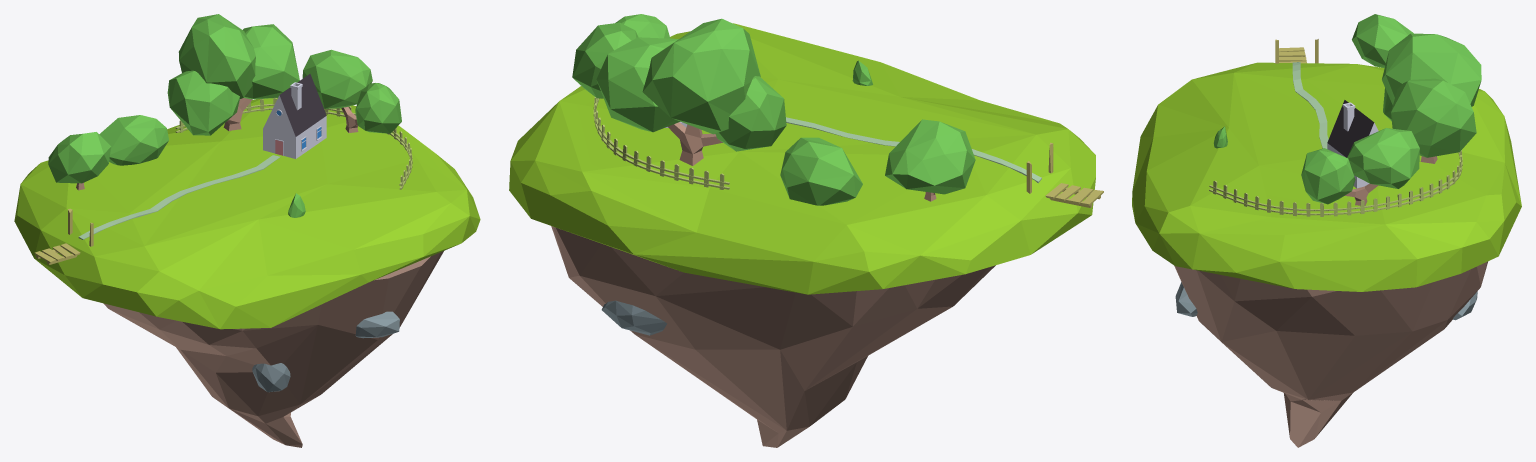
The model's file is floating_island.fbx.
The picture shows the model from 3 angles, left to right: view 1: azimuth 30°, elevation 25°; view 2: azimuth 150°, elevation 25°; view 3: azimuth 270°, elevation 25°; orthographic projection. The views are drawn at different scales.
Visible parts, largest first — view 1: island, tree.001, tree.000, house, tree.003, tree.002, road, rock.000, fence, rock.001, bridge; view 2: island, tree.001, tree.002, tree.003, tree.000, fence, rock.002, bridge, road; view 3: island, tree.001, tree.000, fence, tree.002, house, road, bridge, rock.000.
Boxes of the visible parts, box(x1,y1,x2,y2) form: island: box(14, 98, 480, 447); tree.001: box(167, 14, 299, 135); tree.000: box(302, 49, 401, 133); house: box(263, 74, 326, 158); tree.003: box(99, 115, 168, 165); tree.002: box(48, 132, 110, 190); road: box(78, 155, 280, 239); rock.000: box(355, 311, 399, 338); fence: box(175, 98, 412, 189); rock.001: box(252, 363, 290, 392); bridge: box(34, 208, 93, 264); island: box(509, 23, 1095, 447); tree.001: box(596, 18, 786, 165); tree.002: box(885, 119, 975, 201); tree.003: box(780, 137, 862, 205); tree.000: box(572, 14, 670, 98); fence: box(593, 97, 729, 189); rock.002: box(601, 300, 666, 335); bridge: box(1026, 142, 1103, 207); road: box(786, 117, 1041, 183); island: box(1132, 62, 1521, 447); tree.001: box(1382, 33, 1481, 163); tree.000: box(1301, 128, 1419, 205); fence: box(1209, 150, 1462, 216); tree.002: box(1352, 14, 1413, 68); house: box(1327, 100, 1378, 188); road: box(1292, 62, 1328, 148); bridge: box(1275, 39, 1318, 63); rock.000: box(1175, 282, 1197, 316).
Bounding box in the file's own units: 928 × 824 × 728.
Materials: 1 (1 with a texture image).
